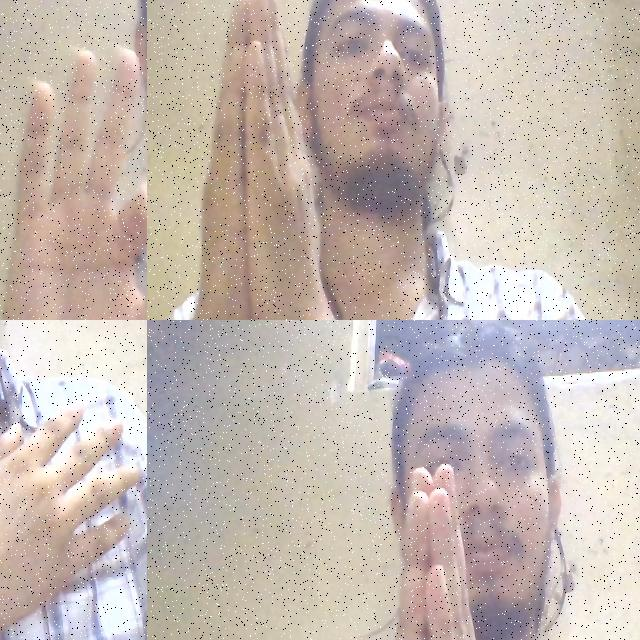I love u: (0, 390, 147, 640)
Please: (0, 37, 147, 320)
Thank You: (171, 0, 351, 320), (332, 458, 558, 640)
